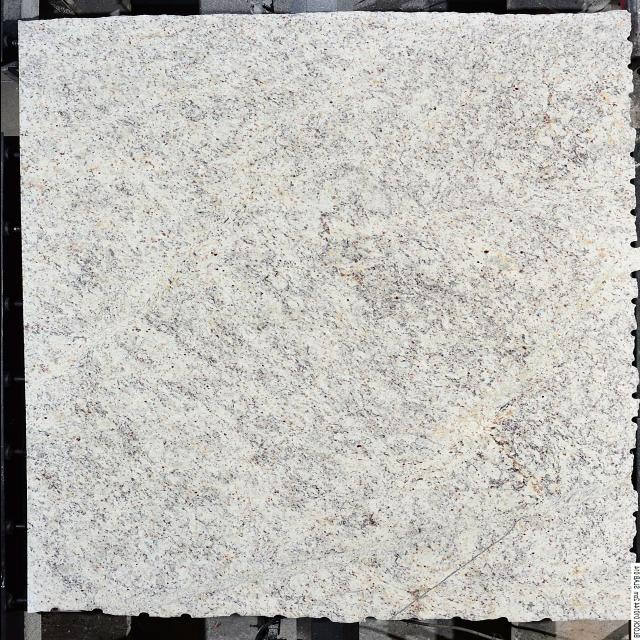chapa: (18, 11, 636, 622)
veio: (175, 610, 193, 620), (627, 268, 640, 280), (628, 392, 640, 402), (627, 239, 639, 249), (626, 206, 636, 218), (90, 607, 104, 614), (135, 612, 151, 618), (364, 616, 378, 622), (628, 448, 639, 455), (630, 298, 639, 306)
